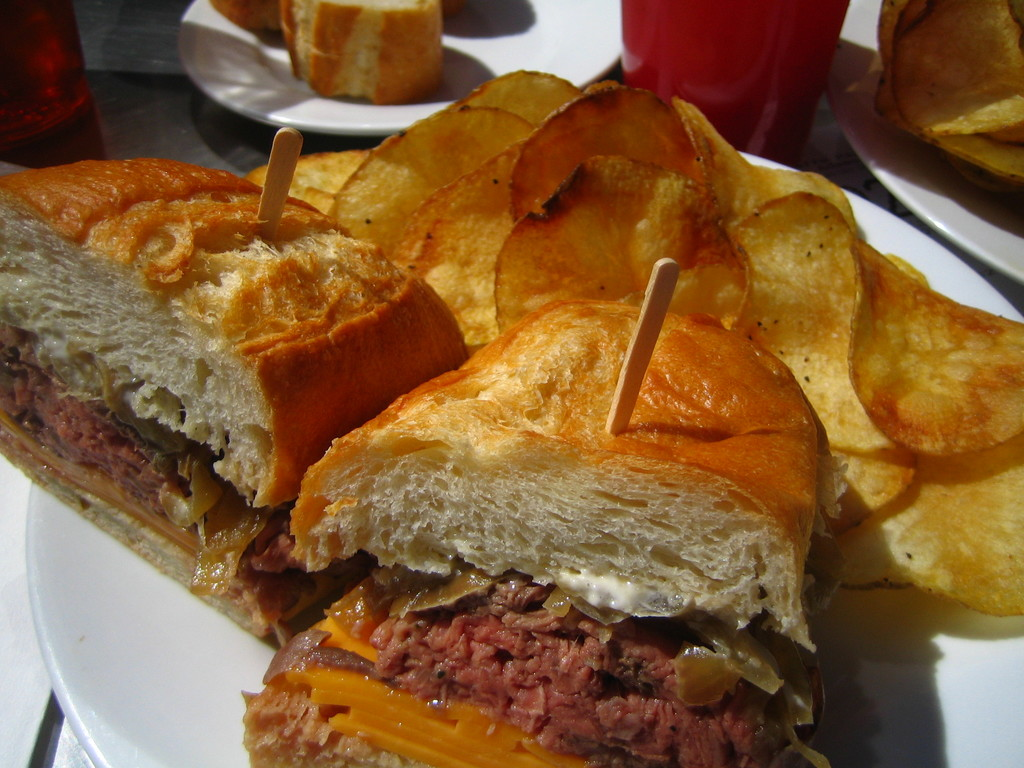Hamburger: (238, 300, 851, 767), (0, 158, 466, 648)
